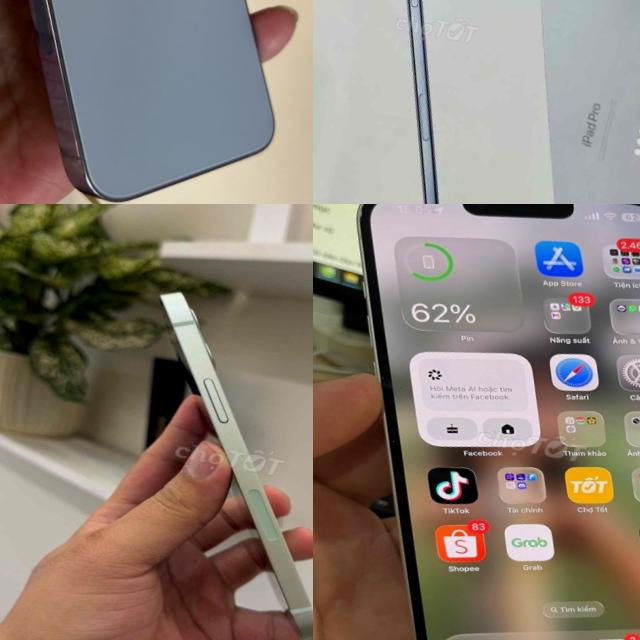gen_12_13: (89, 272, 313, 640), (0, 0, 313, 204)
gen_14: (313, 204, 640, 640)
gen_17: (313, 0, 541, 204)
scratch: (351, 208, 368, 228)
